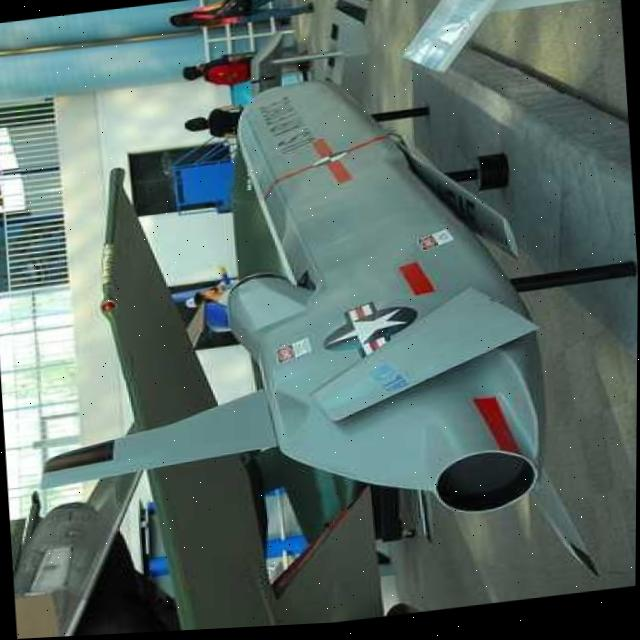missile: (154, 59, 548, 550)
